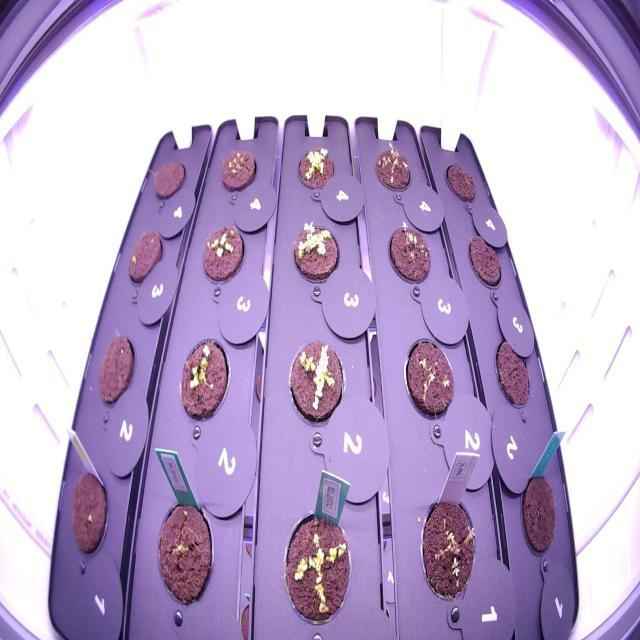germination: (277, 492, 358, 631), (148, 481, 219, 617), (408, 481, 482, 606), (283, 330, 350, 434), (398, 320, 461, 428), (172, 324, 234, 432), (286, 206, 344, 289), (384, 213, 438, 290), (199, 215, 248, 291), (366, 134, 419, 201), (291, 132, 338, 198), (216, 137, 262, 200)
pod: (68, 456, 114, 566), (516, 460, 560, 566), (93, 324, 141, 417), (489, 332, 538, 420), (461, 221, 507, 297), (123, 221, 168, 294), (147, 146, 188, 212), (439, 152, 484, 212)
